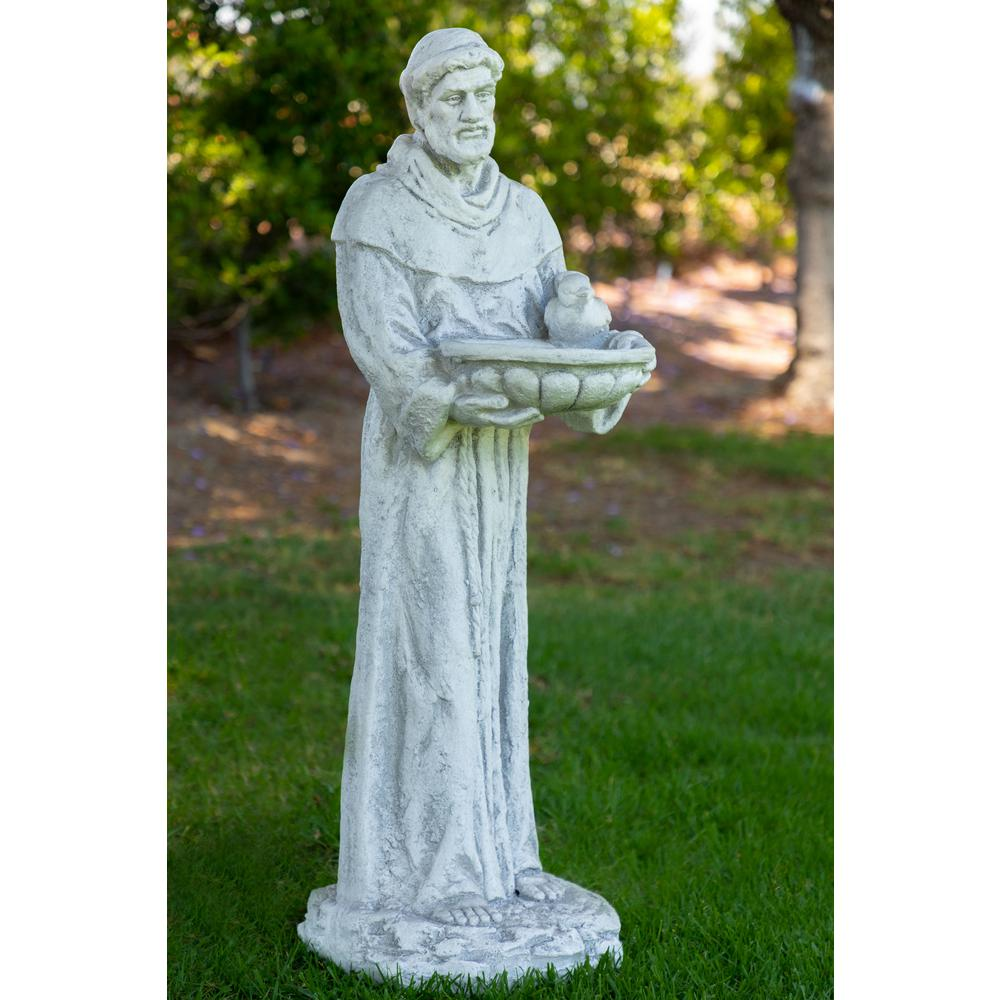person-like: (299, 18, 663, 941)
